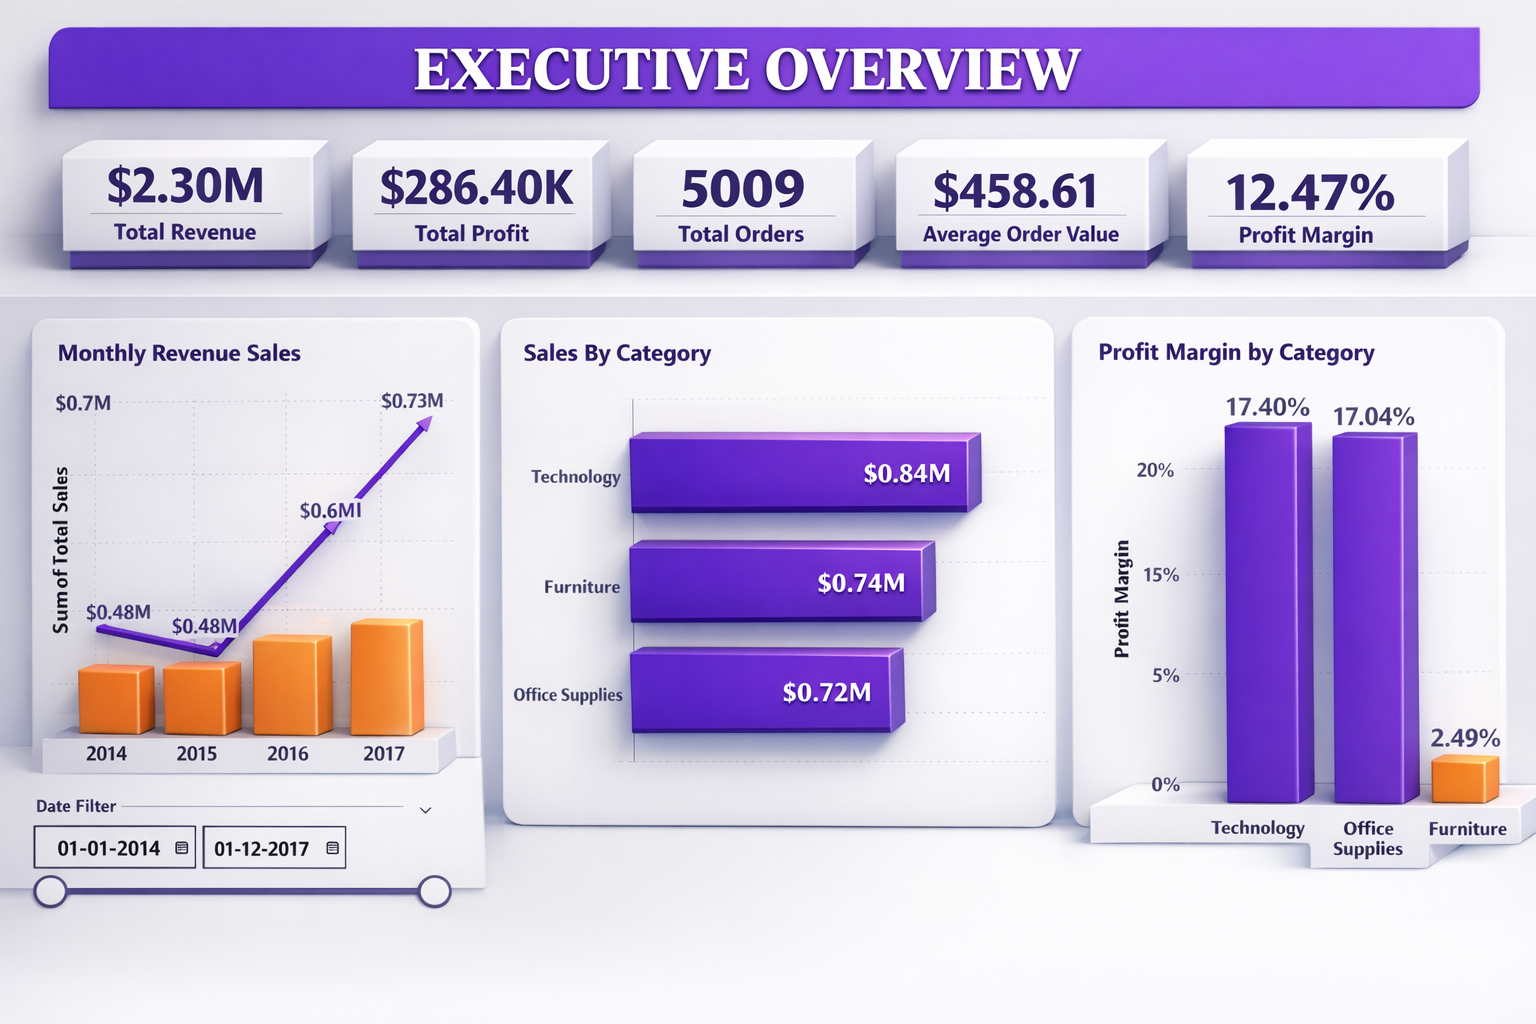

The page's visual inventory and layout, read from the dashboard file:
{"tool":"powerbi","page":{"name":"Executive Overview","canvas":[1280,720],"ordinal":0},"visuals":[{"type":"card","fields":{"Values":["Sum(kpis.Total_Revenue)"]},"box":[0,78.6,262.9,167.1],"z":0},{"type":"card","fields":{"Values":["Sum(kpis.Total_Profit)"]},"box":[262.9,78.6,241.4,167.1],"z":1000},{"type":"card","fields":{"Values":["Sum(kpis.Total_Orders)"]},"box":[505.7,78.6,258.6,167.1],"z":2000},{"type":"card","fields":{"Values":["Sum(kpis.Average_Order_Value)"]},"box":[765.7,78.6,247.1,167.1],"z":3000},{"type":"card","fields":{"Values":["Sum(kpis.Profit_Margin)"]},"box":[1014.3,78.6,265.7,167.1],"z":4000},{"type":"lineChart","title":"Monthly revenue Sales","fields":{"Category":["monthly_summary.Year_Month.Variation.Date Hierarchy.Year","monthly_summary.Year_Month.Variation.Date Hierarchy.Quarter","monthly_summary.Year_Month.Variation.Date Hierarchy.Month","monthly_summary.Year_Month.Variation.Date Hierarchy.Day"],"Y":["Sum(monthly_summary.Total_Sales)"]},"box":[0,245.4,366,347.8],"z":5000},{"type":"clusteredBarChart","title":"Sales By Caetgory","fields":{"Category":["category_summary.Category"],"Y":["Sum(category_summary.Total_Sales)"]},"box":[366,245.4,523,474],"z":6000},{"type":"clusteredColumnChart","fields":{"Category":["category_summary.Category"],"Y":["Avg(category_summary.Profit_Margin)"]},"box":[889,245.4,391.2,474],"z":7000},{"type":"slicer","fields":{"Values":["monthly_summary.Year_Month"]},"box":[0,600.2,366,119.2],"z":8000},{"type":"textbox","title":"Executive Overview","box":[0,0,1280,78.6],"z":9000}]}

Visuals, with their boxes on the page's 1280x720 design canvas (x1, y1, x2, y2). These are canvas units, not pixel positions in the 1536x1024 screenshot, which may show the page scaled, cropped or inside an application window:
card - Sum(kpis.Total_Revenue): BBox(0, 79, 263, 246)
card - Sum(kpis.Total_Profit): BBox(263, 79, 504, 246)
card - Sum(kpis.Total_Orders): BBox(506, 79, 764, 246)
card - Sum(kpis.Average_Order_Value): BBox(766, 79, 1013, 246)
card - Sum(kpis.Profit_Margin): BBox(1014, 79, 1280, 246)
"Monthly revenue Sales" lineChart: BBox(0, 245, 366, 593)
"Sales By Caetgory" clusteredBarChart: BBox(366, 245, 889, 719)
clusteredColumnChart - category_summary.Category x Avg(category_summary.Profit_Margin): BBox(889, 245, 1280, 719)
slicer - monthly_summary.Year_Month: BBox(0, 600, 366, 719)
"Executive Overview" textbox: BBox(0, 0, 1280, 79)
